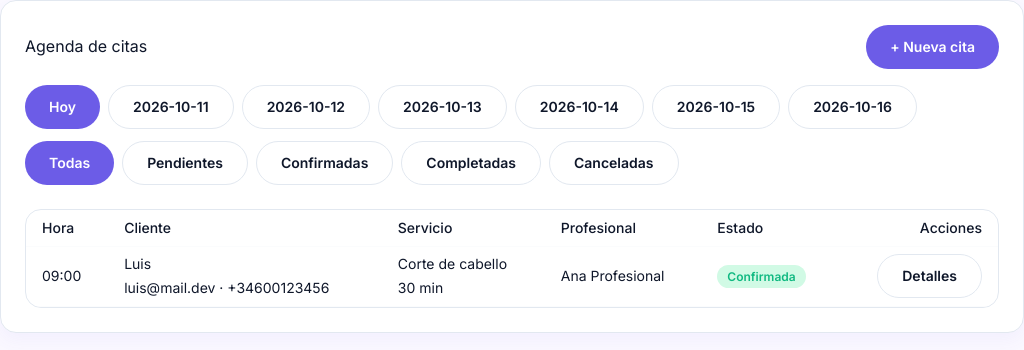
Agenda (admin appointments) › filters by status
Click the button "Pendientes" at (185, 163), box [122,141,248,185]
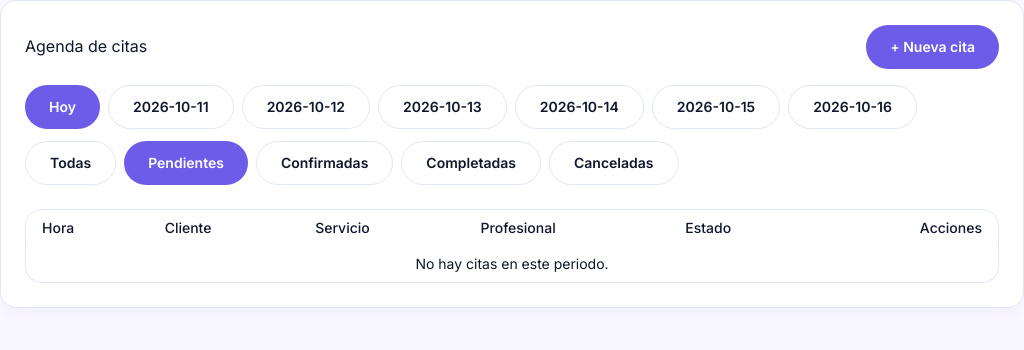
Expected: the text "Luis" is gone
Click the button "Confirmadas" at (325, 163), box [256,141,393,185]
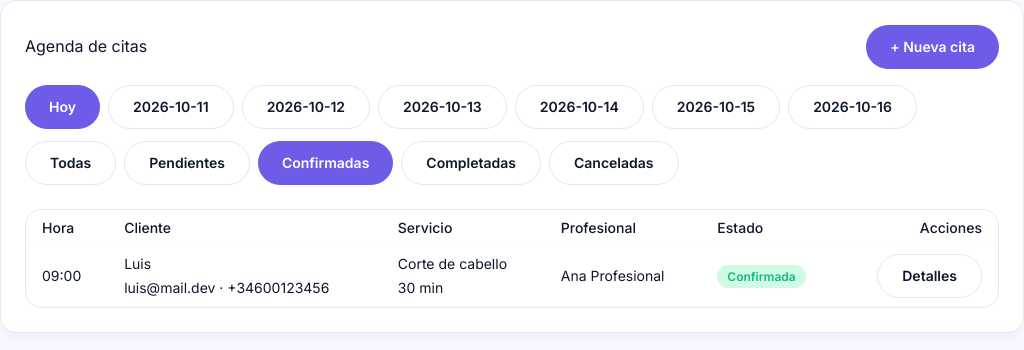
Expected: the text "Luis" is shown, [124,255,151,272]
